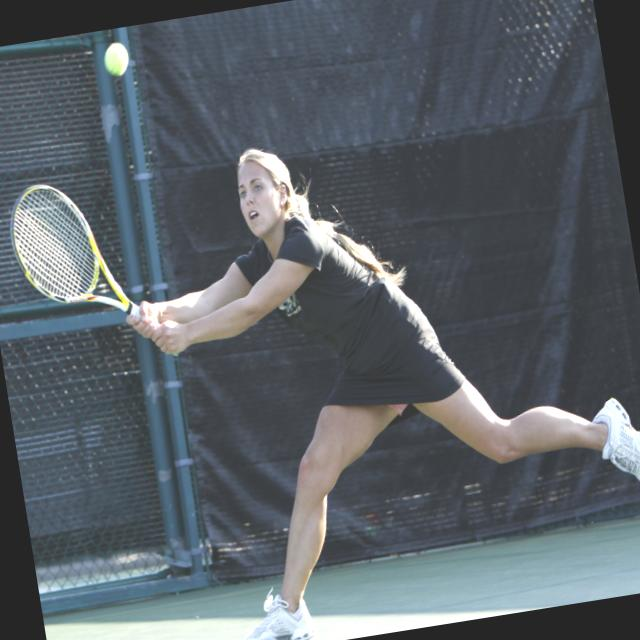Tennis ball: (102, 41, 132, 78)
